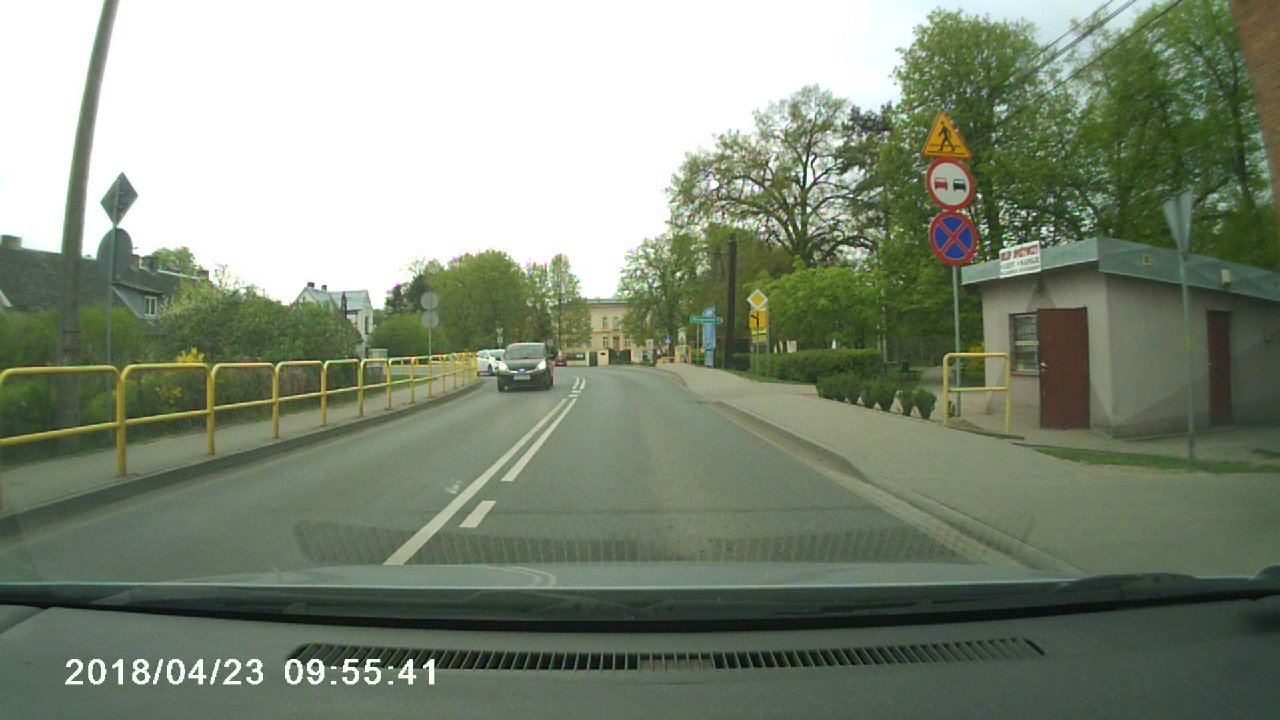A16: (921, 111, 973, 161)
B25: (923, 158, 976, 211)
B36: (930, 212, 981, 266)
D1: (747, 289, 768, 309)
